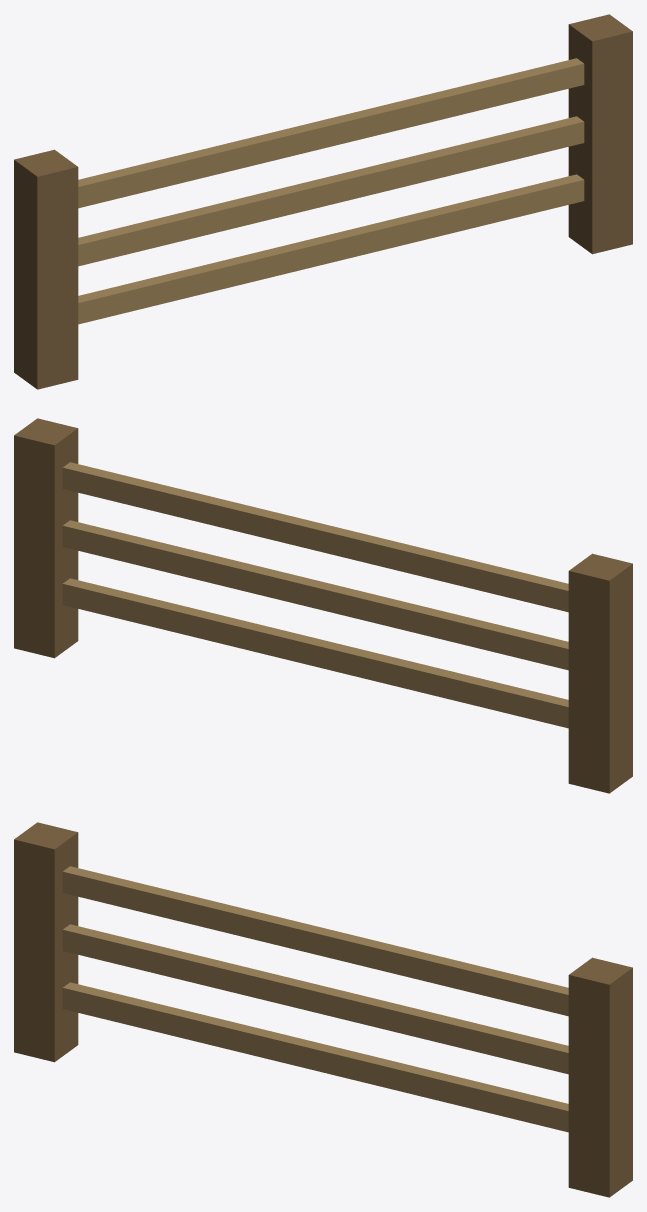
Rendered from FencePanel.glb.
The picture shows the model from 3 angles, top to bottom: view 1: azimuth 30°, elevation 25°; view 2: azimuth 150°, elevation 25°; view 3: azimuth 330°, elevation 25°; orthographic projection.
Parts seen in each view (by area): view 1: PostA, Rail2, Rail1, Rail3, PostB; view 2: PostA, Rail2, Rail1, Rail3, PostB; view 3: PostB, Rail2, Rail1, Rail3, PostA.
Boxes of the visible parts, x1,y1,x2,y2 form: PostA: (14,149,78,389); Rail2: (78,116,584,266); Rail1: (78,174,584,324); Rail3: (78,58,584,208); PostB: (568,14,632,254); PostA: (568,553,632,793); Rail2: (62,520,568,670); Rail1: (62,578,568,728); Rail3: (62,462,568,612); PostB: (14,418,78,658); PostB: (568,957,632,1197); Rail2: (62,924,568,1074); Rail1: (62,982,568,1132); Rail3: (62,866,568,1016); PostA: (14,822,78,1062).
Bounding box in the file's own units: 32.2 × 11 × 2.2.
